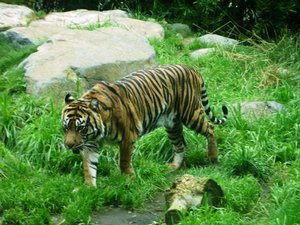Tigre: (51, 68, 230, 182)
